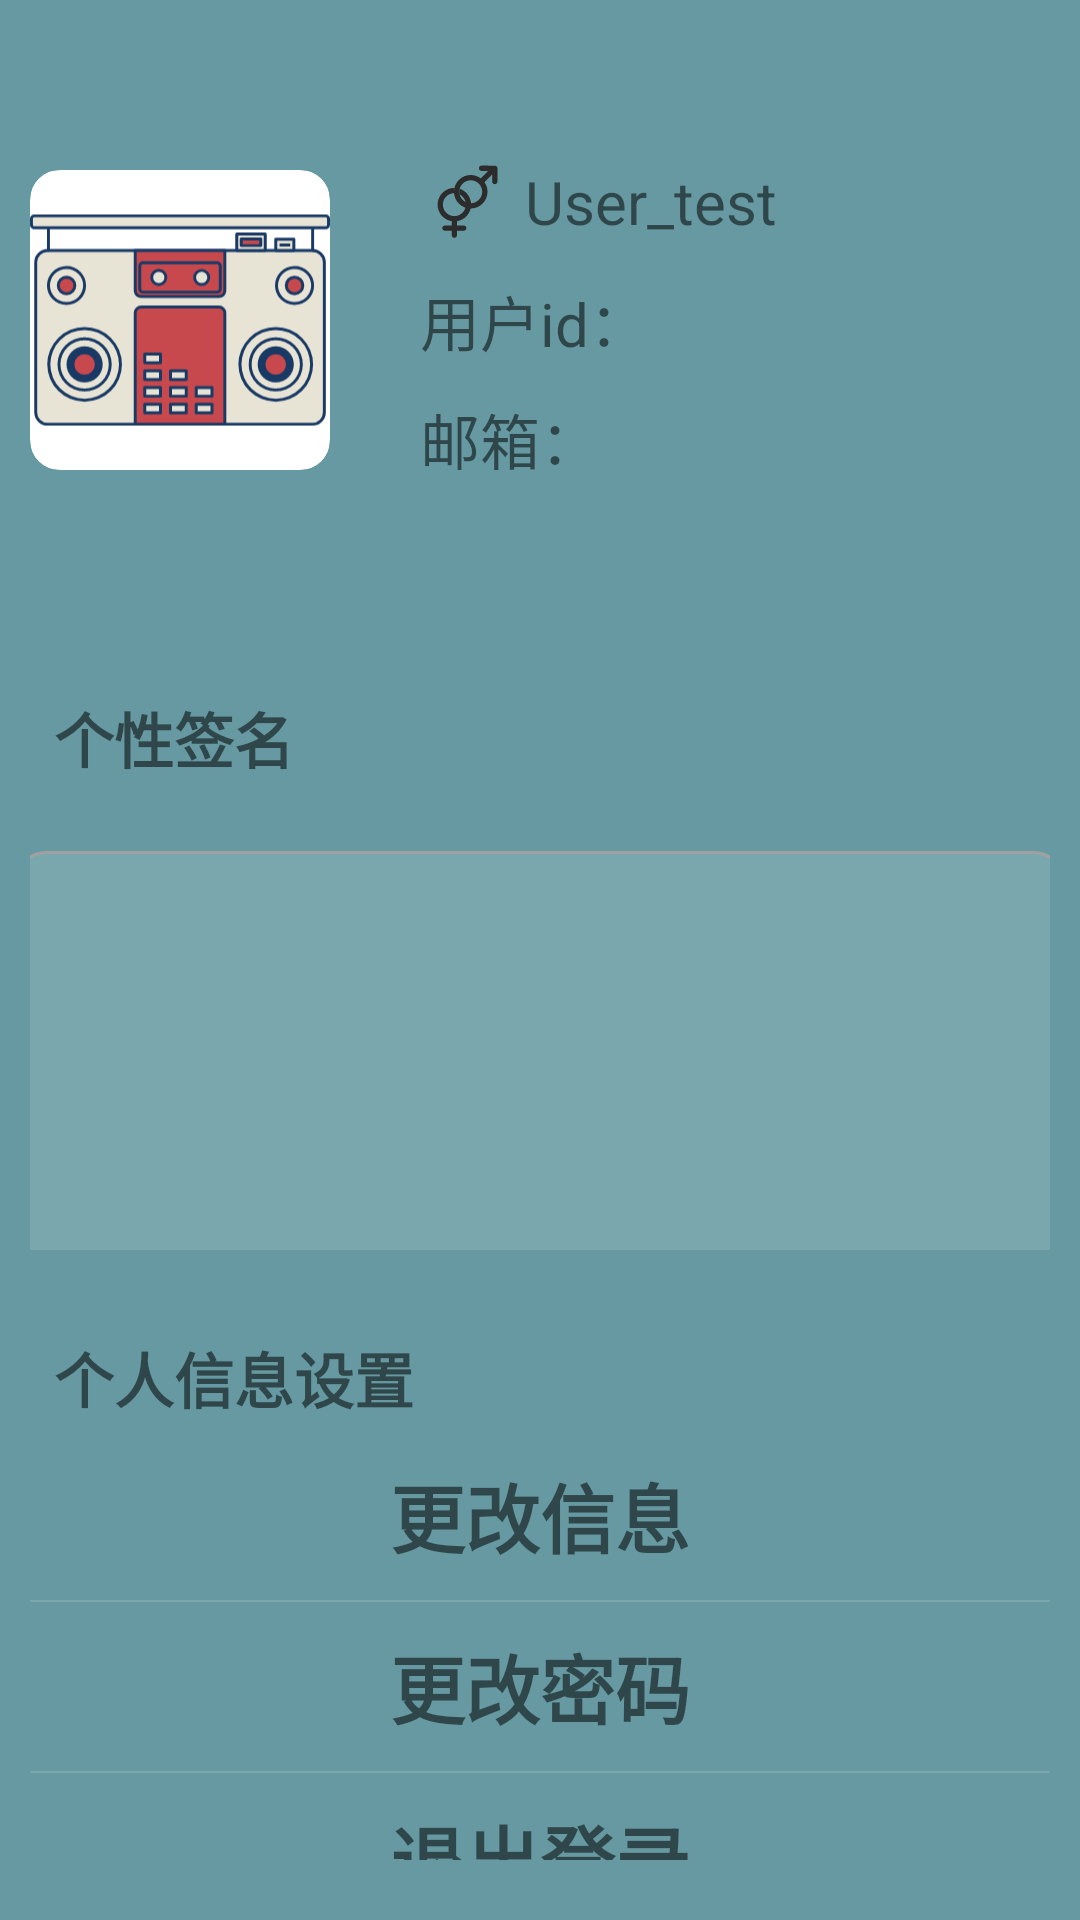

Where to tap for icons on this 1080x1920 app screen, as [x,y]:
sex: [467,201]
song: [180,320]
